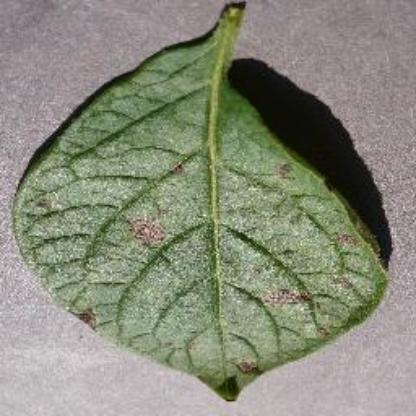Early-Blight: (14, 6, 388, 400)
